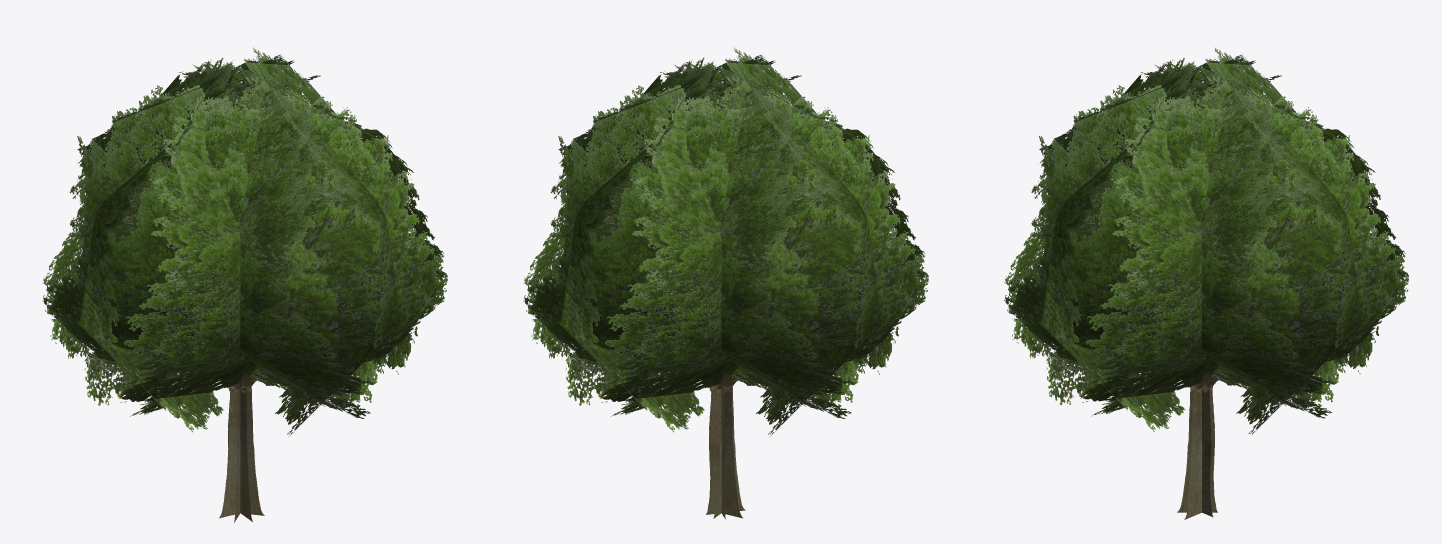
The model's file is LowpolyTree_1side.fbx.
The picture shows the model from 3 angles, left to right: view 1: azimuth 30°, elevation 25°; view 2: azimuth 150°, elevation 25°; view 3: azimuth 270°, elevation 25°; orthographic projection.
Visible parts, largest first — view 1: LOD0; view 2: LOD0; view 3: LOD0.
Boxes of the visible parts, x1=… form: LOD0: x1=42, y1=47, x2=447, y2=522; LOD0: x1=523, y1=47, x2=928, y2=519; LOD0: x1=1004, y1=47, x2=1408, y2=519.
Size of what is drawn, in the model's own units: 5.99 by 7 by 6.6.
